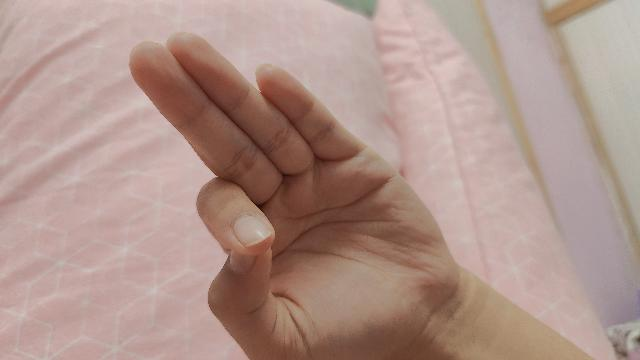aral: (129, 33, 595, 360)
